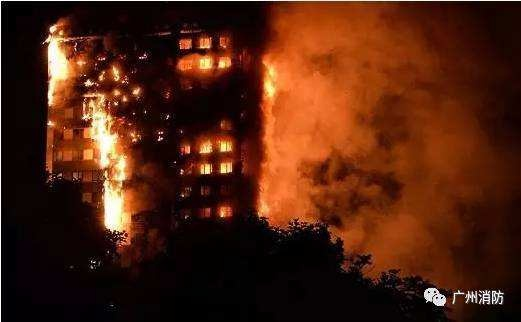fire: (179, 35, 280, 221), (83, 58, 154, 237), (44, 22, 75, 110)
